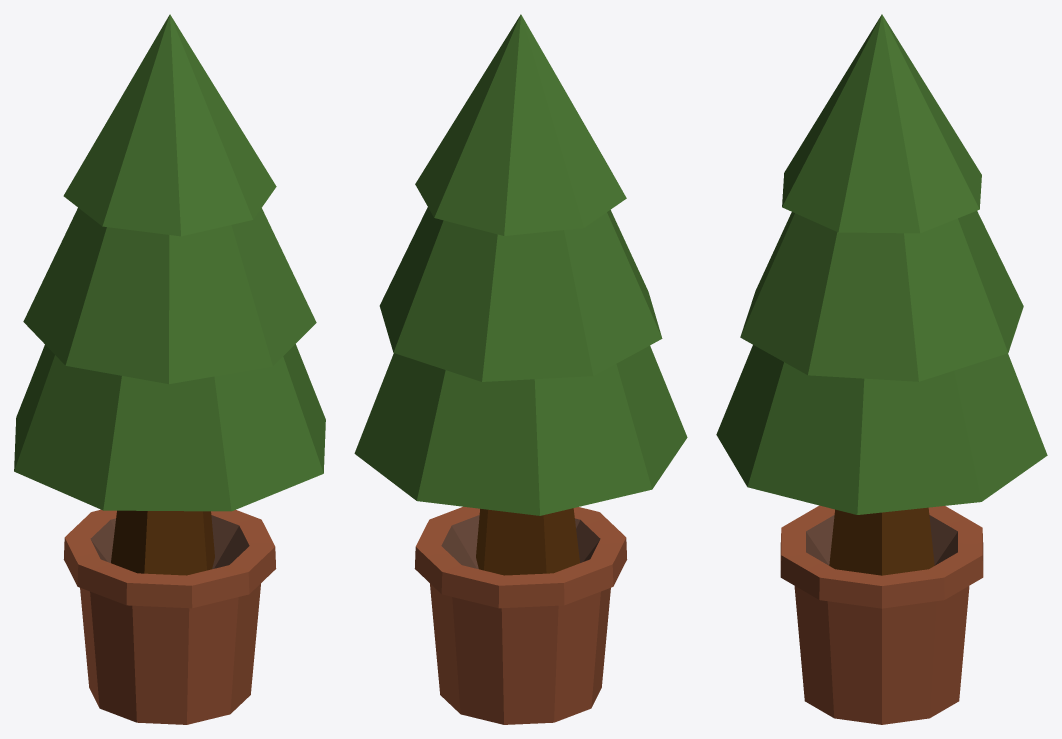
The model's file is Fir-tree.fbx.
3 renders of one model, left to right at view 1: azimuth 30°, elevation 25°; view 2: azimuth 150°, elevation 25°; view 3: azimuth 270°, elevation 25°, orthographic.
Parts seen in each view (by area): view 1: pCylinder5; view 2: pCylinder5; view 3: pCylinder5.
Part boxes in pixels (x1=…): pCylinder5: x1=14, y1=14, x2=325, y2=724; pCylinder5: x1=354, y1=14, x2=687, y2=724; pCylinder5: x1=716, y1=14, x2=1047, y2=724.
Bounding box in the file's own units: 0.373 × 0.8405 × 0.373.
1 material, 1 textured.
